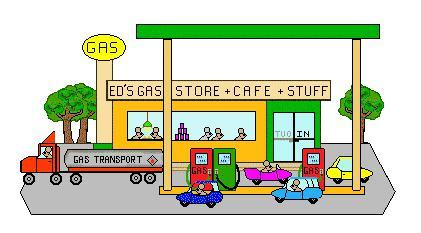car: (14, 127, 165, 186), (324, 152, 374, 187), (269, 176, 326, 205), (176, 180, 223, 208), (241, 164, 296, 187)
